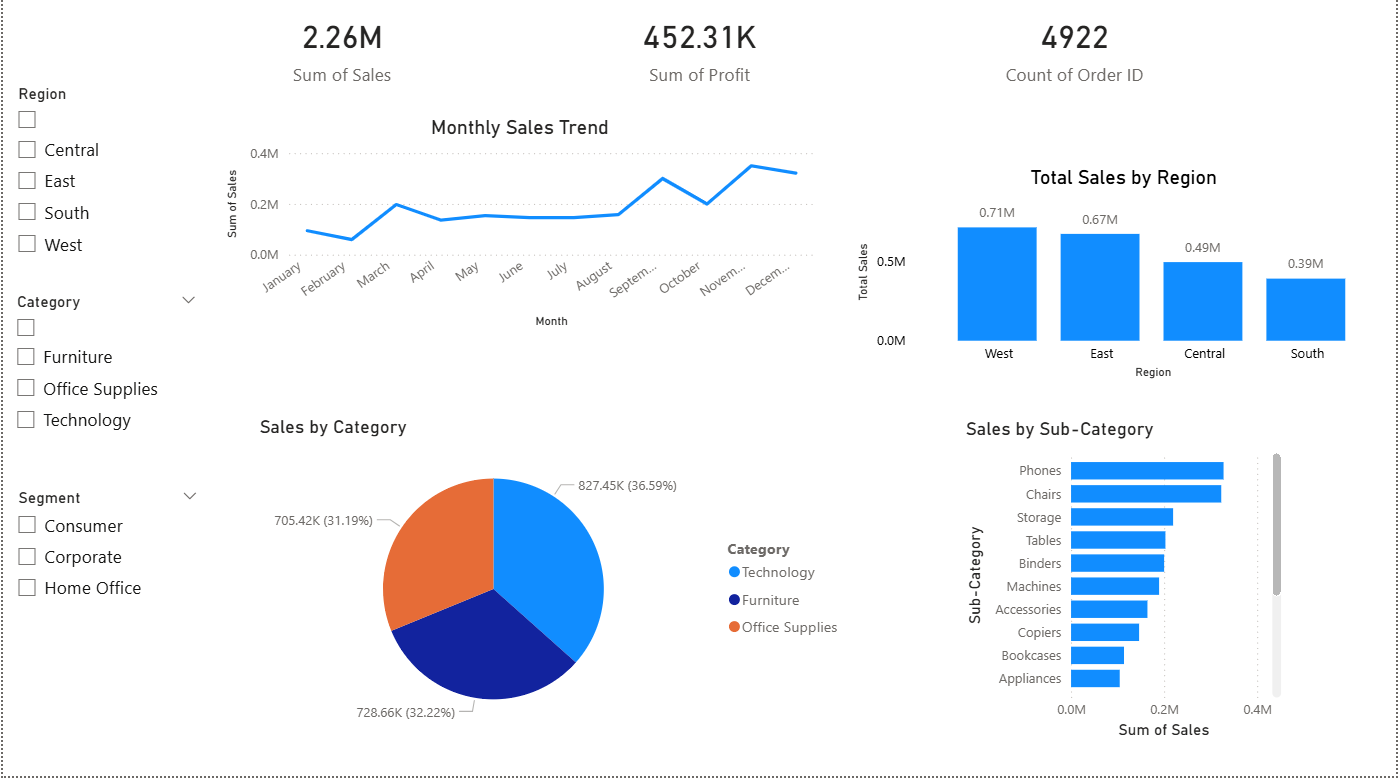

The dashboard page shown, as its layout file describes it:
{"tool":"powerbi","page":{"name":"Page 1","canvas":[1280,720],"ordinal":0},"visuals":[{"type":"card","fields":{"Values":["Sum(SuperStoreSales.Sales)"]},"box":[162,0,299.8,99.9],"z":0},{"type":"card","fields":{"Values":["Sum(SuperStoreSales.Profit)"]},"box":[490,0,300,100],"z":1000},{"type":"clusteredColumnChart","title":"Total Sales by Region","fields":{"Category":["SuperStoreSales.Region"],"Y":["Sum(SuperStoreSales.Sales)"]},"box":[780,158.5,499.7,201],"z":2000},{"type":"lineChart","title":"Monthly Sales Trend","fields":{"Category":["SuperStoreSales.Month"],"Y":["Sum(SuperStoreSales.Sales)"]},"box":[199.9,112.6,550.2,199.9],"z":3000},{"type":"card","fields":{"Values":["Count(SuperStoreSales.Order ID)"]},"box":[835.1,0,299.8,99.9],"z":4000},{"type":"pieChart","title":"Sales by Category","fields":{"Category":["SuperStoreSales.Category"],"Y":["Sum(SuperStoreSales.Sales)"]},"box":[230.9,388.3,550,300],"z":5000},{"type":"clusteredBarChart","title":"Sales by Sub-Category","fields":{"Category":["SuperStoreSales.Sub-Category"],"Y":["Sum(SuperStoreSales.Sales)"]},"box":[879.9,390.6,299.8,299.8],"z":6000},{"type":"slicer","fields":{"Values":["SuperStoreSales.Region"]},"box":[1.1,79.3,190.7,180.3],"z":7000},{"type":"slicer","fields":{"Values":["SuperStoreSales.Category"]},"box":[0,269.8,189.5,180.3],"z":8000},{"type":"slicer","fields":{"Values":["SuperStoreSales.Segment"]},"box":[1.1,450.3,189.5,180.3],"z":9000}]}

Visuals, with their boxes in screenshot pixels (x1, y1, x2, y2), scaled from the page's 1280x720 canvas onto the 1400x780 screenshot:
card - Sum(SuperStoreSales.Sales): left=177, top=0, right=505, bottom=108
card - Sum(SuperStoreSales.Profit): left=536, top=0, right=864, bottom=108
"Total Sales by Region" clusteredColumnChart: left=853, top=172, right=1399, bottom=389
"Monthly Sales Trend" lineChart: left=219, top=122, right=820, bottom=339
card - Count(SuperStoreSales.Order ID): left=913, top=0, right=1241, bottom=108
"Sales by Category" pieChart: left=253, top=421, right=854, bottom=746
"Sales by Sub-Category" clusteredBarChart: left=962, top=423, right=1290, bottom=748
slicer - SuperStoreSales.Region: left=1, top=86, right=210, bottom=281
slicer - SuperStoreSales.Category: left=0, top=292, right=207, bottom=488
slicer - SuperStoreSales.Segment: left=1, top=488, right=208, bottom=683
